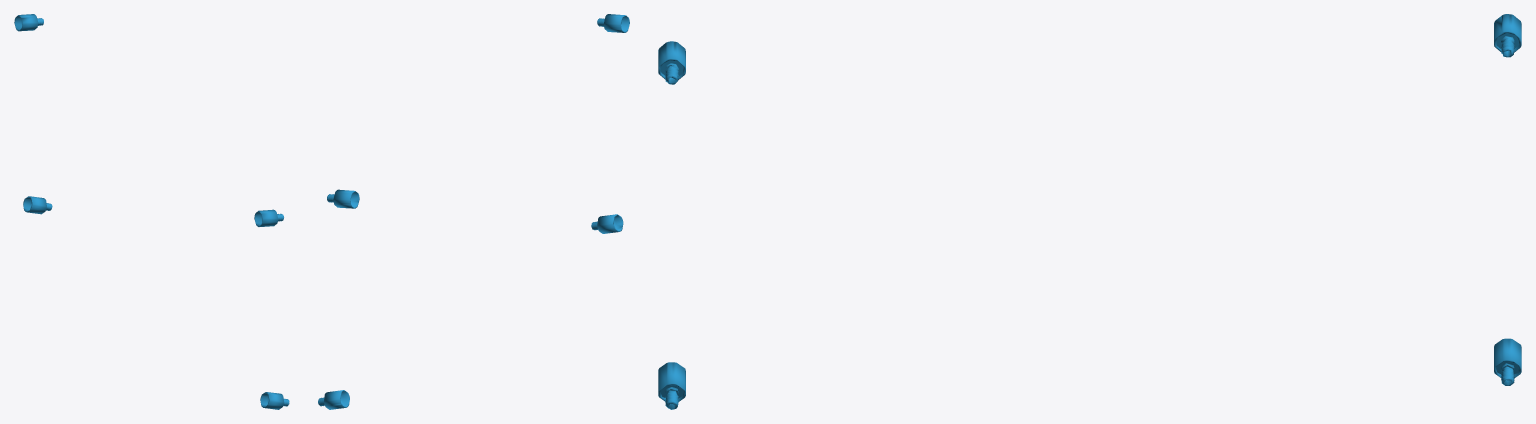
The model's file is bluerov2_heavy_43_153_207_001.obj.
3 views of the same model, side by side, from view 1: azimuth 30°, elevation 25°; view 2: azimuth 150°, elevation 25°; view 3: azimuth 270°, elevation 25° (orthographic). The views are drawn at different scales.
Parts seen in each view (by area): view 1: BROV2-HEAVY-45.021_BROV2-HEAVY-45.022; view 2: BROV2-HEAVY-45.021_BROV2-HEAVY-45.022; view 3: BROV2-HEAVY-45.021_BROV2-HEAVY-45.022.
Part boxes in pixels (bbox=[...]): BROV2-HEAVY-45.021_BROV2-HEAVY-45.022: bbox=[14, 14, 289, 409]; BROV2-HEAVY-45.021_BROV2-HEAVY-45.022: bbox=[318, 14, 629, 409]; BROV2-HEAVY-45.021_BROV2-HEAVY-45.022: bbox=[658, 14, 1521, 409].
Size of the model in its own units: 1.3 by 7.42 by 15.38.
